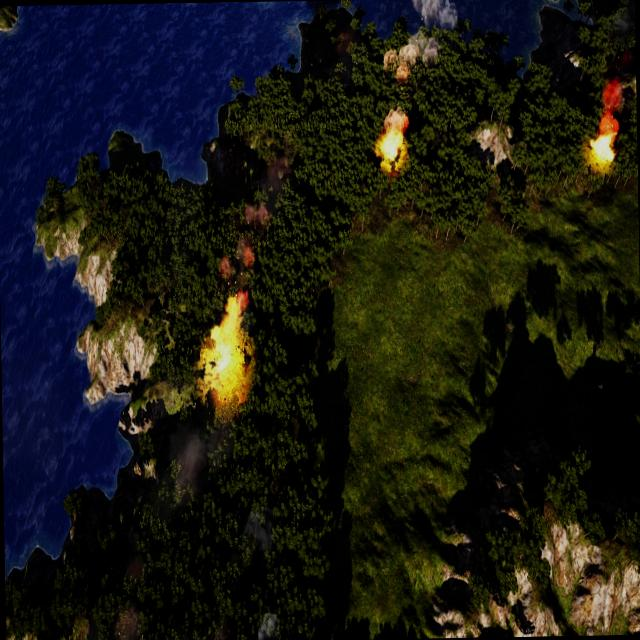fire: (200, 294, 247, 400), (378, 120, 404, 163), (588, 131, 618, 166)
smoke: (213, 155, 290, 309), (385, 0, 460, 77), (168, 418, 235, 504), (597, 0, 635, 127), (86, 608, 142, 640), (241, 506, 276, 552), (251, 611, 279, 640)
